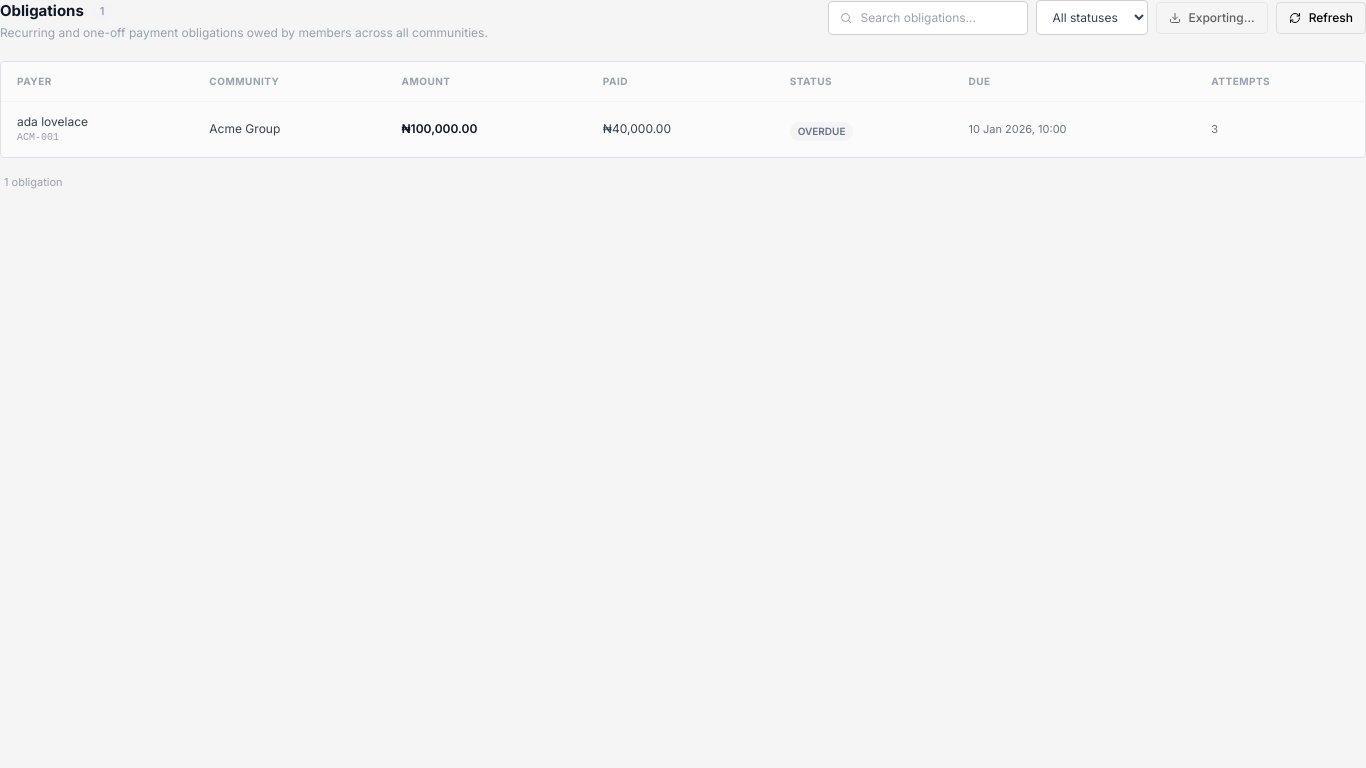
Test: ObligationsSection › shows outstanding in the detail only when something is still owed
The width and height of the screenshot is (1366, 768).
Click the text "ACM-001" at (38, 137), box [17,132,59,142]
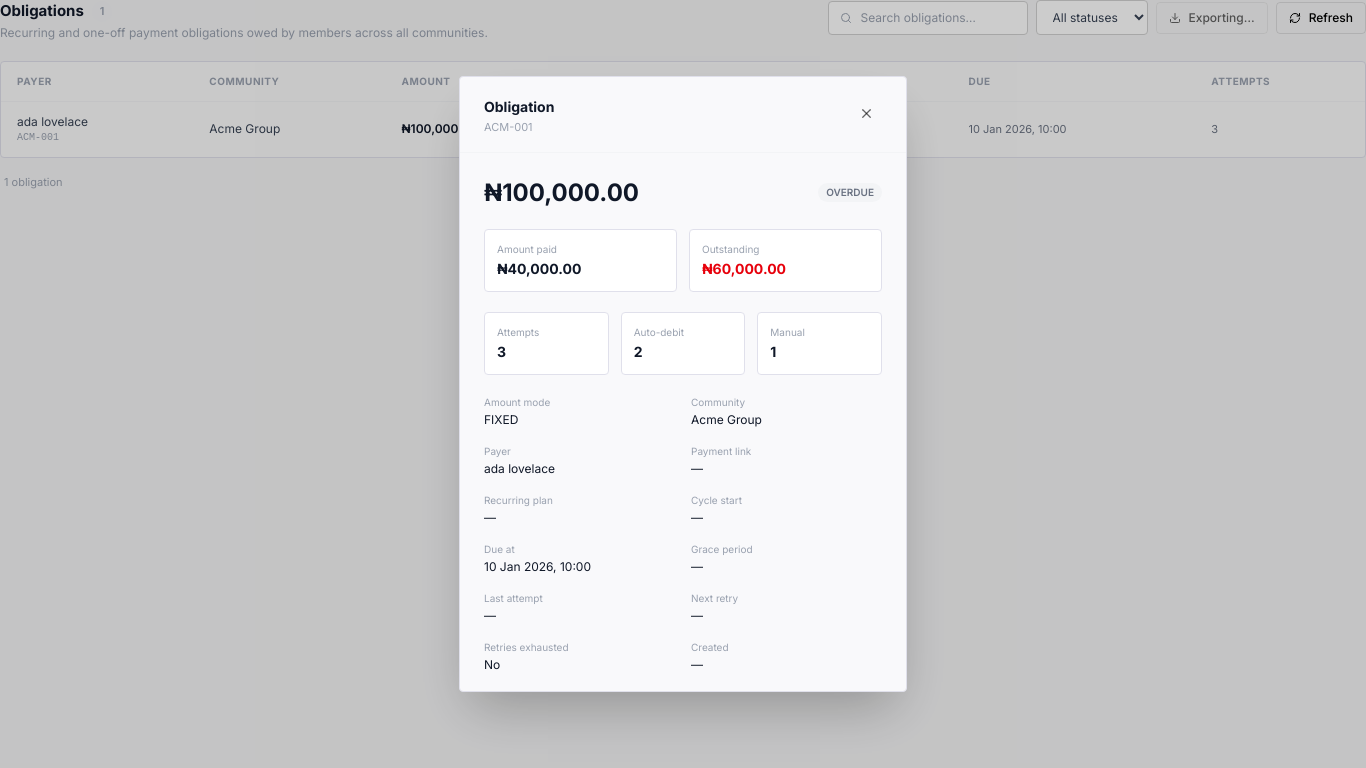
Now the text "Outstanding" is shown, box [702,243,760,255]
